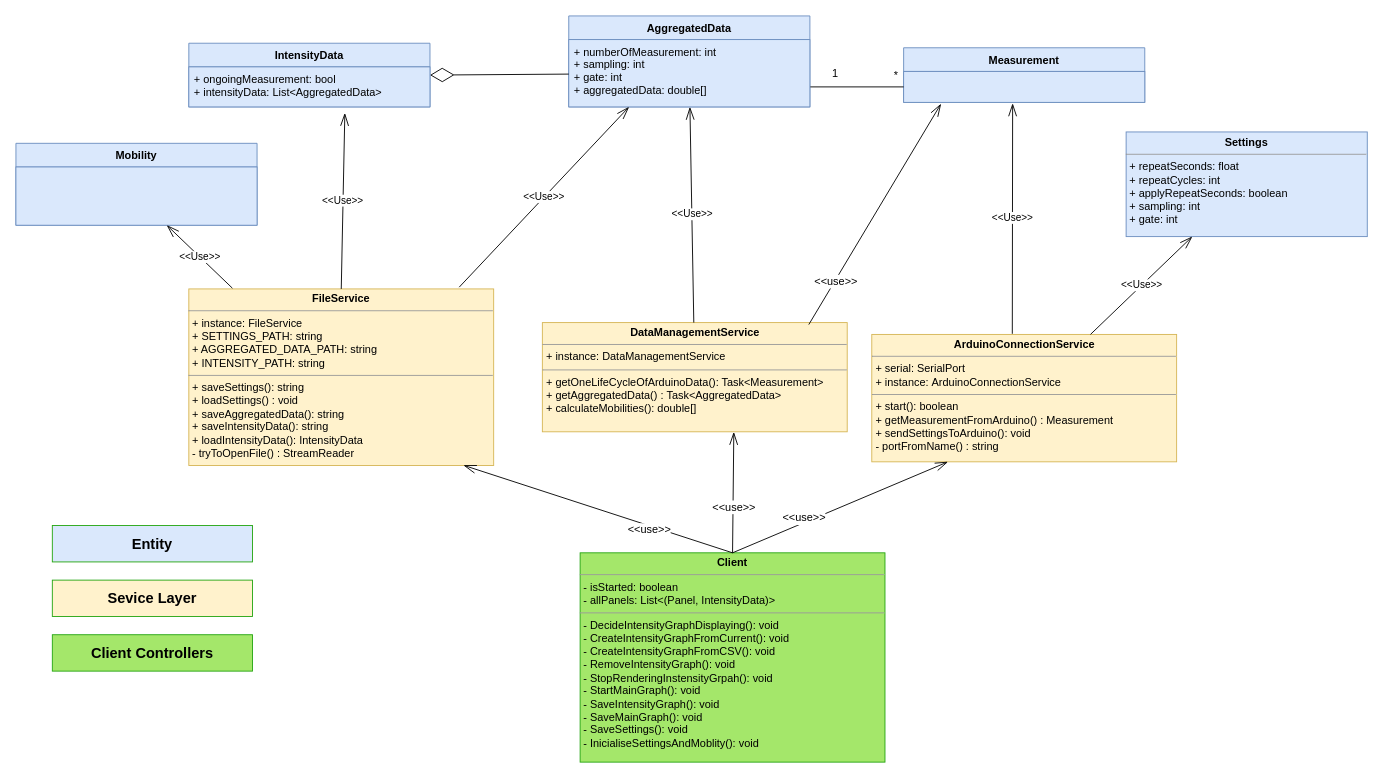
This 1383x778 diagram has some shape labels left out. The centre of each missing label's shape, as x and y in pixels:
"+ L: double + p :double + T: double + U: double" goes at pixel 136 195.
"+ measurement: double[]" goes at pixel 1024 86.
